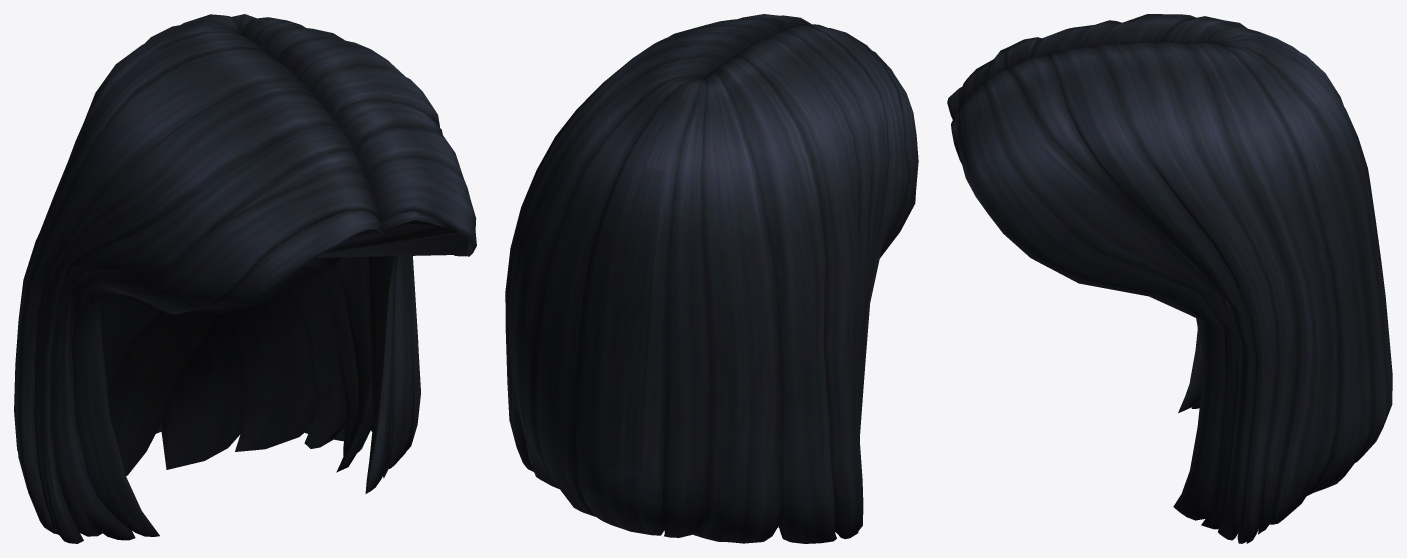
File: hair15.glb
The picture shows the model from 3 angles, left to right: view 1: azimuth 30°, elevation 25°; view 2: azimuth 150°, elevation 25°; view 3: azimuth 270°, elevation 25°; orthographic projection. The views are drawn at different scales.
Visible parts, largest first — view 1: s4studio_mesh_1, s4studio_mesh_2; view 2: s4studio_mesh_1; view 3: s4studio_mesh_1.
Part boxes in pixels (bbox=[...]): s4studio_mesh_1: bbox=[14, 14, 476, 543]; s4studio_mesh_2: bbox=[244, 35, 385, 245]; s4studio_mesh_1: bbox=[505, 14, 918, 543]; s4studio_mesh_1: bbox=[947, 14, 1392, 543].
Size of the model in its own units: 0.2072 by 0.2439 by 0.227.
Materials: 1 (1 with a texture image).
